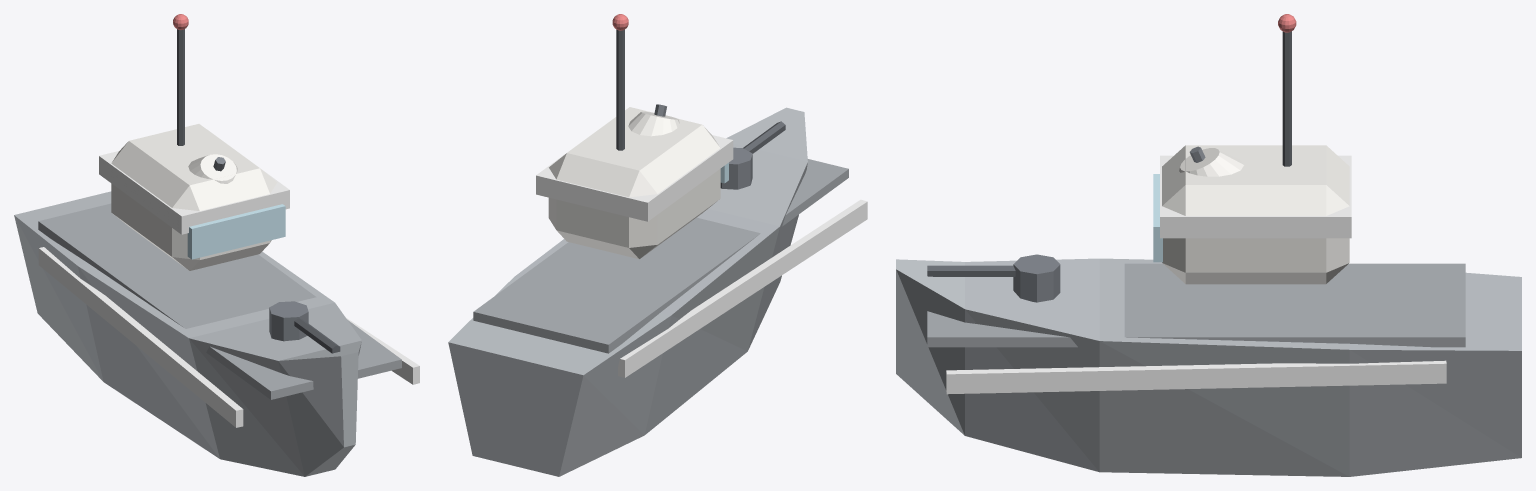
The model's file is patrolboat.glb.
3 views of the same model, side by side, from view 1: azimuth 30°, elevation 25°; view 2: azimuth 150°, elevation 25°; view 3: azimuth 270°, elevation 25° (orthographic). The views are drawn at different scales.
Parts seen in each view (by area): view 1: main, turret; view 2: main, turret; view 3: main, turret.
Part boxes in pixels (x1,y1,x2,y2): main: [14, 14, 419, 476]; turret: [269, 301, 340, 353]; main: [448, 14, 867, 476]; turret: [720, 121, 785, 189]; main: [896, 14, 1521, 476]; turret: [927, 254, 1060, 302].
Size of the model in its own units: 0.314 by 0.612 by 0.8.
